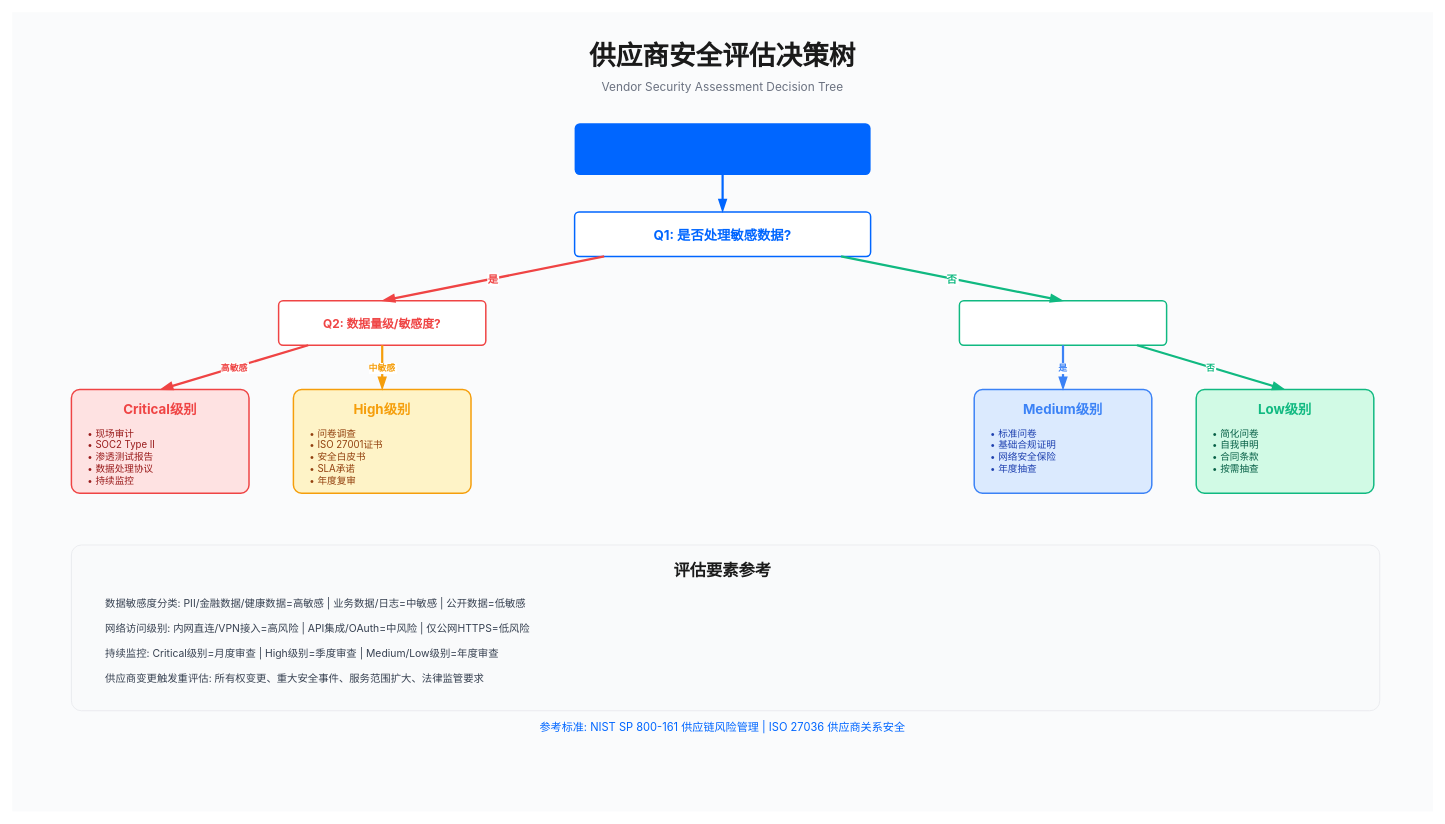
Image size: 1445x824. Some labels were removed from this diagram. The shapes that lost their labels are listed below. From the top down, each one's centre as x and y in pixels, then its label:
At point 722,149: "供应商安全评估启动".
At point 1062,323: "Q3: 网络访问/API集成?".
